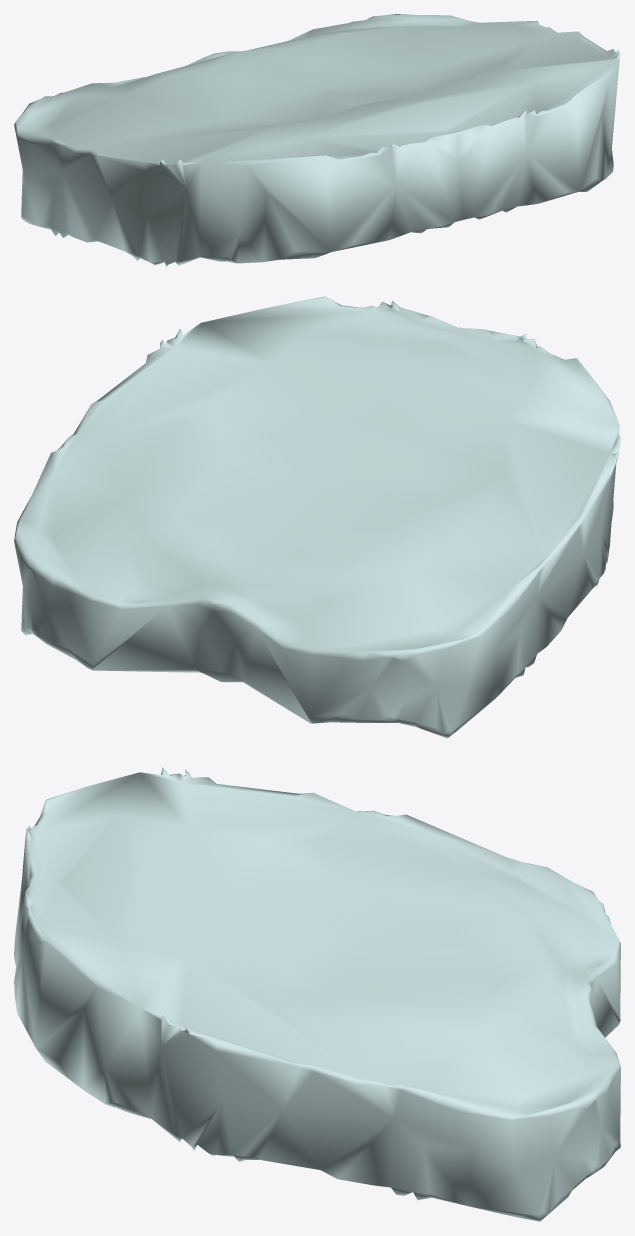
The model's file is Intervertebral_disc_T9-T10_Generated_Mesh_From_X3D.053.glb.
3 views of the same model, one above another, from view 1: azimuth 30°, elevation 25°; view 2: azimuth 150°, elevation 25°; view 3: azimuth 270°, elevation 25° (orthographic). The views are drawn at different scales.
Parts seen in each view (by area): view 1: Intervertebral_disc_T9-T10_Generated_Mesh_From_X3D.053; view 2: Intervertebral_disc_T9-T10_Generated_Mesh_From_X3D.053; view 3: Intervertebral_disc_T9-T10_Generated_Mesh_From_X3D.053.
Part boxes in pixels (box(x1,y1,x2,y2)): Intervertebral_disc_T9-T10_Generated_Mesh_From_X3D.053: box(14, 14, 620, 267); Intervertebral_disc_T9-T10_Generated_Mesh_From_X3D.053: box(14, 296, 620, 738); Intervertebral_disc_T9-T10_Generated_Mesh_From_X3D.053: box(14, 767, 620, 1221).
Bounding box in the file's own units: 0.037 × 0.015 × 0.0346.
